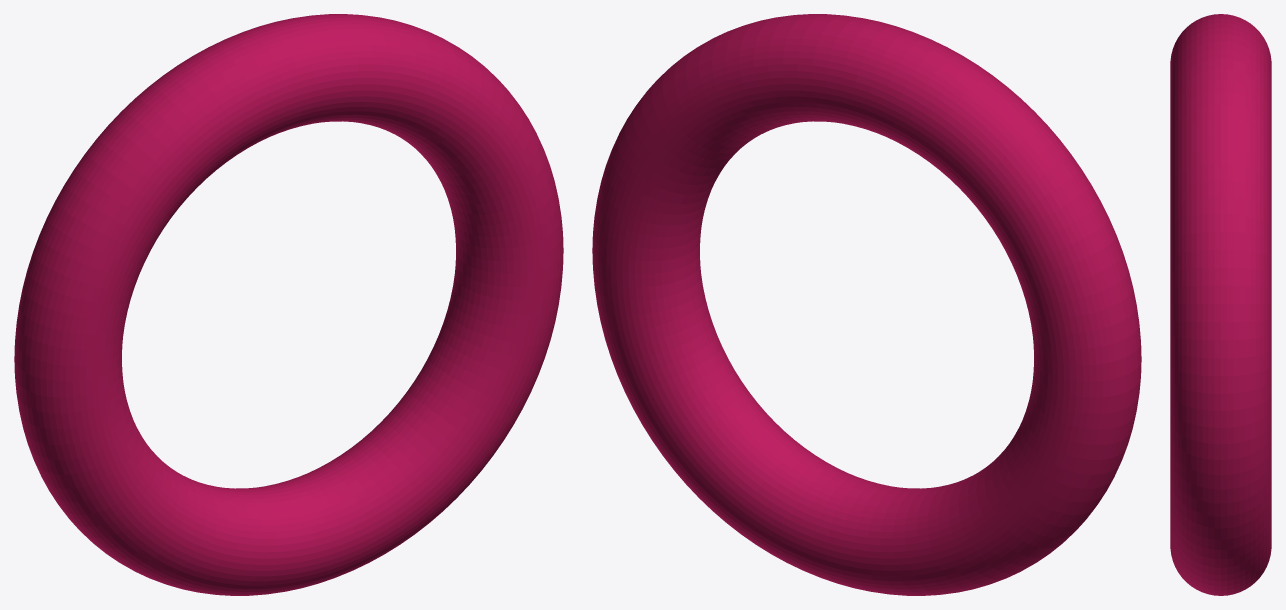
3 renders of one model, left to right at view 1: azimuth 30°, elevation 25°; view 2: azimuth 150°, elevation 25°; view 3: azimuth 270°, elevation 25°, orthographic. The views are drawn at different scales.
Parts seen in each view (by area): view 1: world; view 2: world; view 3: world.
Part boxes in pixels (left/top/right/bottom): world: left=14, top=14, right=563, bottom=595; world: left=592, top=14, right=1141, bottom=595; world: left=1170, top=14, right=1271, bottom=595.
Bounding box in the file's own units: 29.87 × 29.87 × 5.19.
